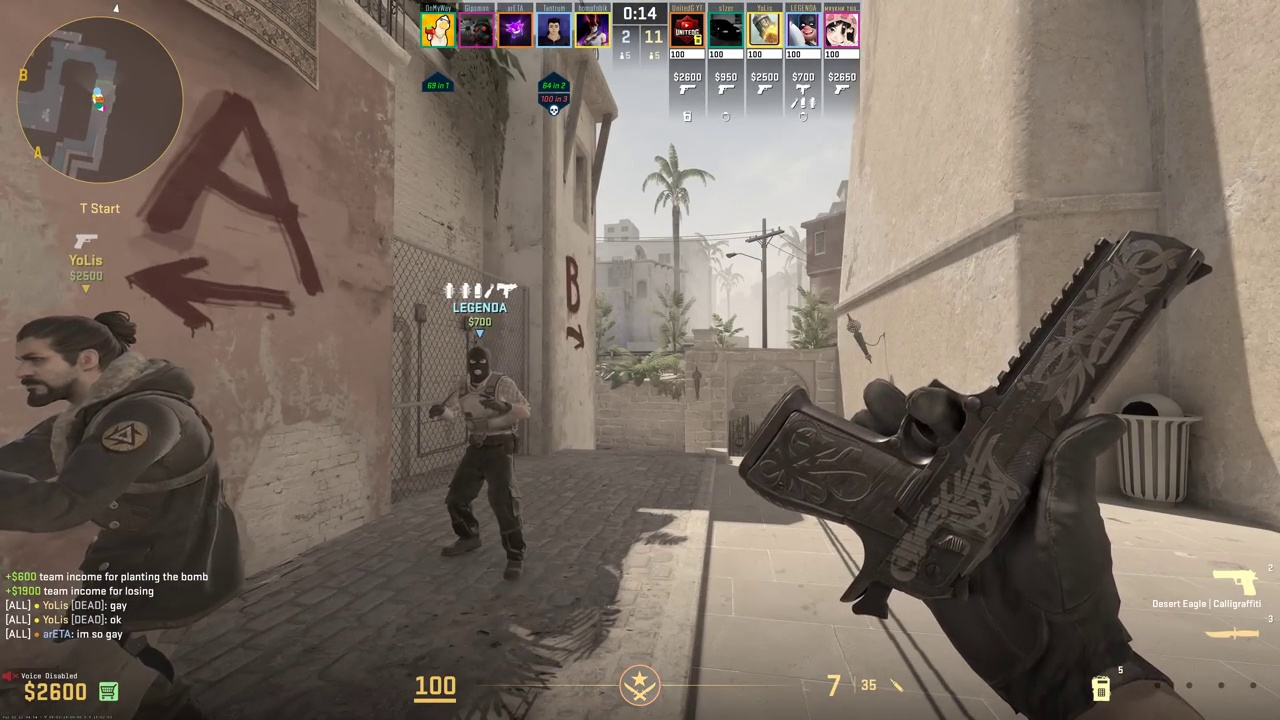Terrorist: (4, 316, 232, 713), (437, 344, 529, 578)
